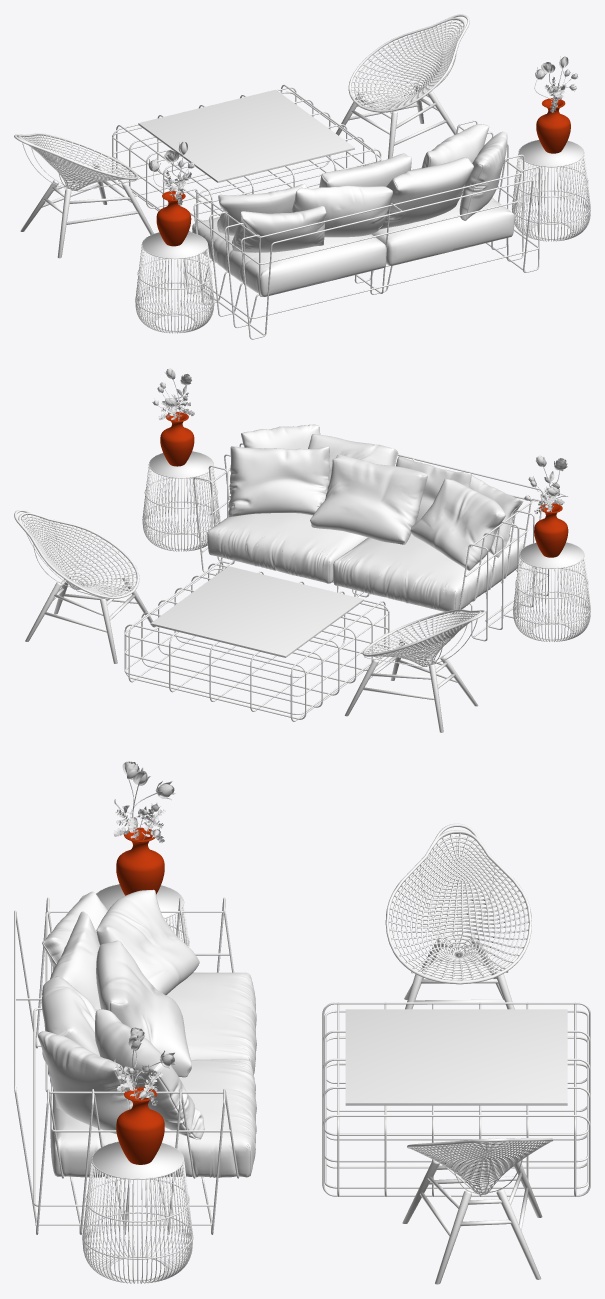
The model's file is candidate.sofa.sofa-0ae2-002.glb.
3 renders of one model, top to bottom at view 1: azimuth 30°, elevation 25°; view 2: azimuth 150°, elevation 25°; view 3: azimuth 270°, elevation 25°, orthographic. The views are drawn at different scales.
Parts seen in each view (by area): view 1: Sofa.003, Rectangle001_Defintion.003, Retopo_DE-TEA-AD-GRA_Component_14.008, G-__561090.007, Retopo_DE-TEA-AD-GRA_Component_14.007, G-__561090.006, Tea table.003, Pottery.012, Pottery.011, Flowers.042, Flowers.045; view 2: Sofa.003, Rectangle001_Defintion.003, Tea table.003, Retopo_DE-TEA-AD-GRA_Component_14.008, G-__561090.007, Retopo_DE-TEA-AD-GRA_Component_14.007, G-__561090.006, Pottery.011, Pottery.012, Flowers.042; view 3: Sofa.003, Rectangle001_Defintion.003, Retopo_DE-TEA-AD-GRA_Component_14.007, G-__561090.006, Tea table.003, Retopo_DE-TEA-AD-GRA_Component_14.008, Pottery.011, Pottery.012, G-__561090.007, Flowers.042.
Boxes of the visible parts, x1=… form: Sofa.003: x1=180, y1=120, x2=540, y2=339; Rectangle001_Defintion.003: x1=138, y1=89, x2=354, y2=182; Retopo_DE-TEA-AD-GRA_Component_14.008: x1=335, y1=14, x2=469, y2=158; G-__561090.007: x1=135, y1=232, x2=214, y2=333; Retopo_DE-TEA-AD-GRA_Component_14.007: x1=14, y1=133, x2=153, y2=258; G-__561090.006: x1=512, y1=140, x2=590, y2=241; Tea table.003: x1=112, y1=84, x2=381, y2=232; Pottery.012: x1=156, y1=191, x2=191, y2=246; Pottery.011: x1=536, y1=98, x2=570, y2=153; Flowers.042: x1=148, y1=141, x2=191, y2=197; Flowers.045: x1=534, y1=56, x2=568, y2=100; Sofa.003: x1=193, y1=424, x2=548, y2=641; Rectangle001_Defintion.003: x1=150, y1=566, x2=363, y2=657; Tea table.003: x1=124, y1=561, x2=389, y2=721; Retopo_DE-TEA-AD-GRA_Component_14.008: x1=14, y1=510, x2=155, y2=663; G-__561090.007: x1=513, y1=542, x2=590, y2=641; Retopo_DE-TEA-AD-GRA_Component_14.007: x1=344, y1=609, x2=485, y2=732; G-__561090.006: x1=142, y1=451, x2=220, y2=551; Pottery.011: x1=160, y1=412, x2=194, y2=466; Pottery.012: x1=534, y1=503, x2=568, y2=557; Flowers.042: x1=535, y1=455, x2=567, y2=511; Sofa.003: x1=14, y1=889, x2=256, y2=1234; Rectangle001_Defintion.003: x1=345, y1=1009, x2=567, y2=1105; Retopo_DE-TEA-AD-GRA_Component_14.007: x1=385, y1=823, x2=531, y2=1009; G-__561090.006: x1=82, y1=1141, x2=193, y2=1283; Tea table.003: x1=322, y1=1002, x2=590, y2=1196; Retopo_DE-TEA-AD-GRA_Component_14.008: x1=402, y1=1138, x2=553, y2=1284; Pottery.011: x1=116, y1=1087, x2=164, y2=1164; Pottery.012: x1=116, y1=827, x2=164, y2=895; G-__561090.007: x1=96, y1=884, x2=189, y2=947; Flowers.042: x1=114, y1=761, x2=175, y2=839.
Bounding box in the file's own units: 3.37 × 1.24 × 2.59.
